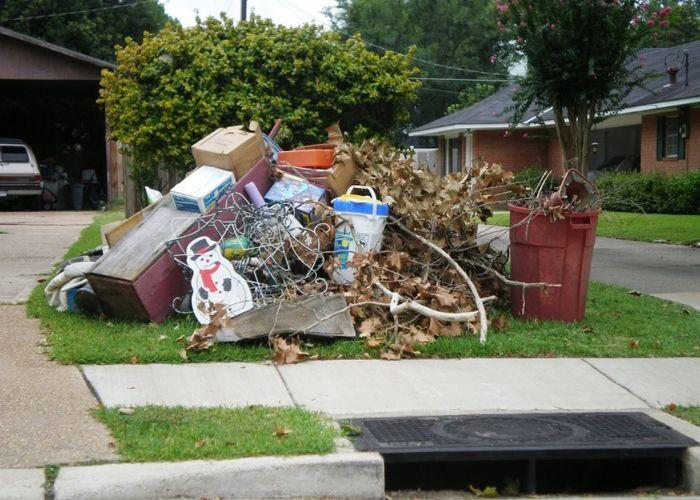trash: (52, 137, 590, 326)
